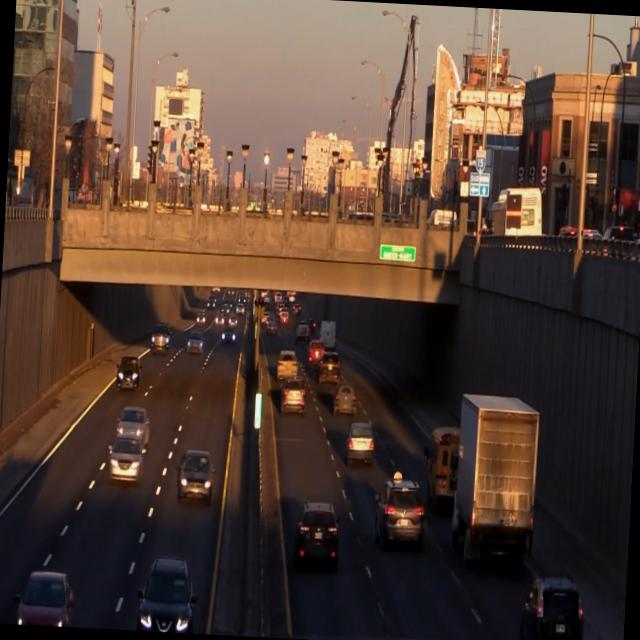Vehicle: (452, 392, 544, 572), (134, 556, 198, 634), (373, 472, 431, 556), (519, 579, 589, 640), (421, 424, 466, 518), (292, 498, 342, 574), (12, 568, 74, 628), (106, 434, 146, 490), (176, 448, 215, 504), (115, 402, 154, 444), (346, 422, 378, 467), (278, 376, 310, 418), (116, 352, 144, 393), (332, 382, 360, 420), (318, 349, 344, 387), (276, 351, 302, 386), (149, 323, 174, 357), (307, 339, 326, 374), (186, 328, 206, 356), (218, 326, 238, 347)
